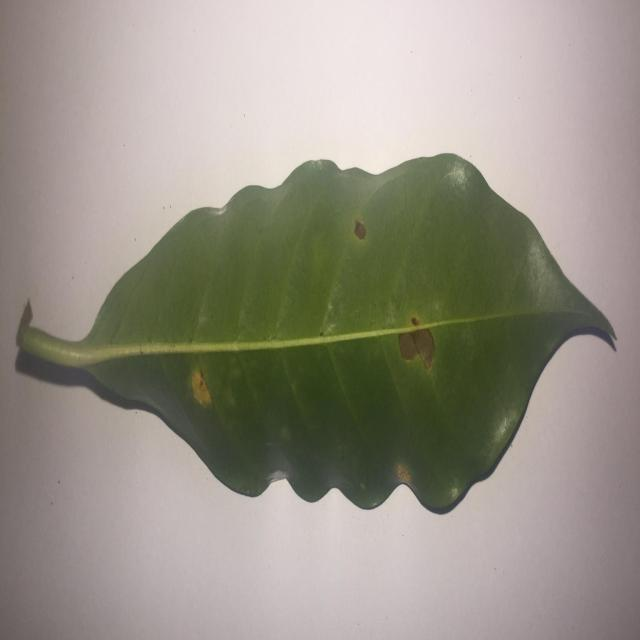miner: (398, 317, 434, 372), (354, 220, 367, 239)
rust: (189, 356, 212, 406), (395, 461, 414, 491)
